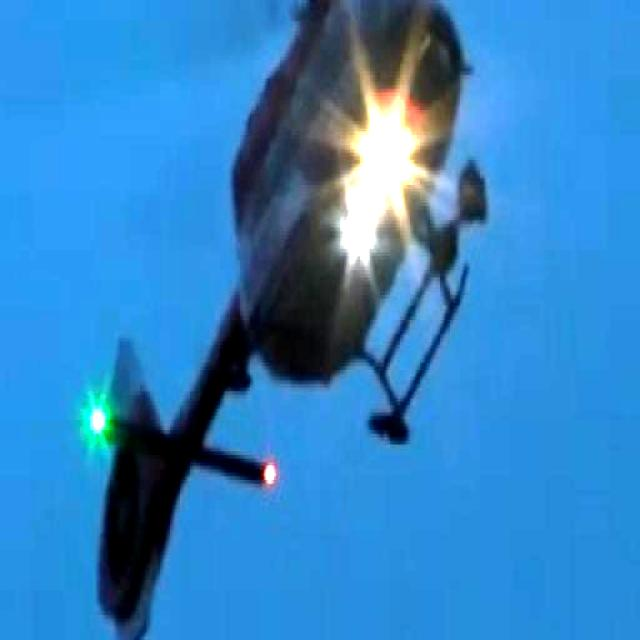drone: (78, 0, 492, 640)
